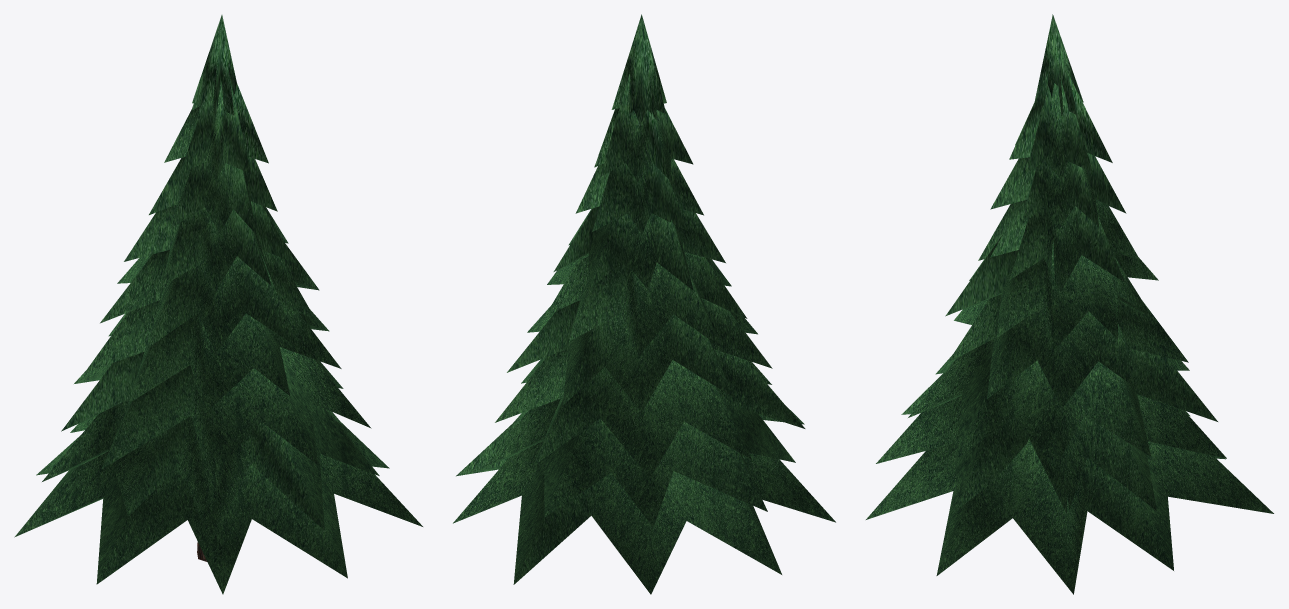
The model's file is fir_1.glb.
The picture shows the model from 3 angles, left to right: view 1: azimuth 30°, elevation 25°; view 2: azimuth 150°, elevation 25°; view 3: azimuth 270°, elevation 25°; orthographic projection. The views are drawn at different scales.
Parts seen in each view (by area): view 1: fir_1; view 2: fir_1; view 3: fir_1.
Part boxes in pixels (bbox=[...]): fir_1: bbox=[14, 15, 422, 594]; fir_1: bbox=[453, 14, 835, 594]; fir_1: bbox=[866, 14, 1273, 594].
Bounding box in the file's own units: 6.55 × 9.6 × 6.69.
Materials: 2 (2 with a texture image).
